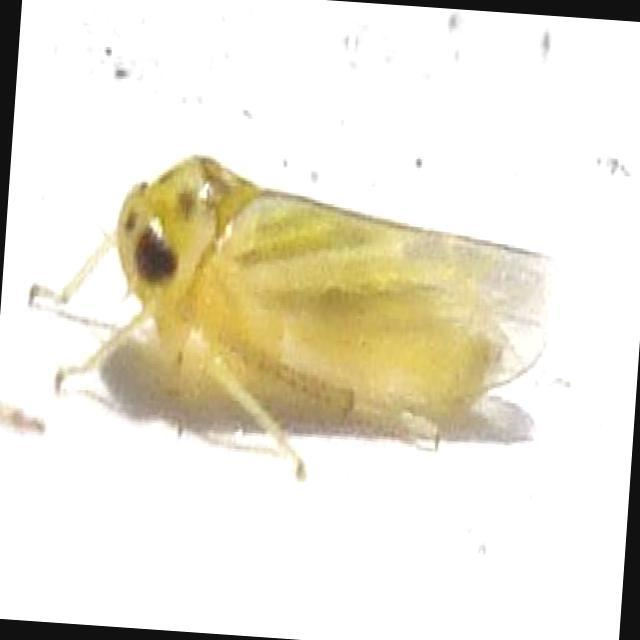green leaf hopper: (56, 156, 555, 479)
